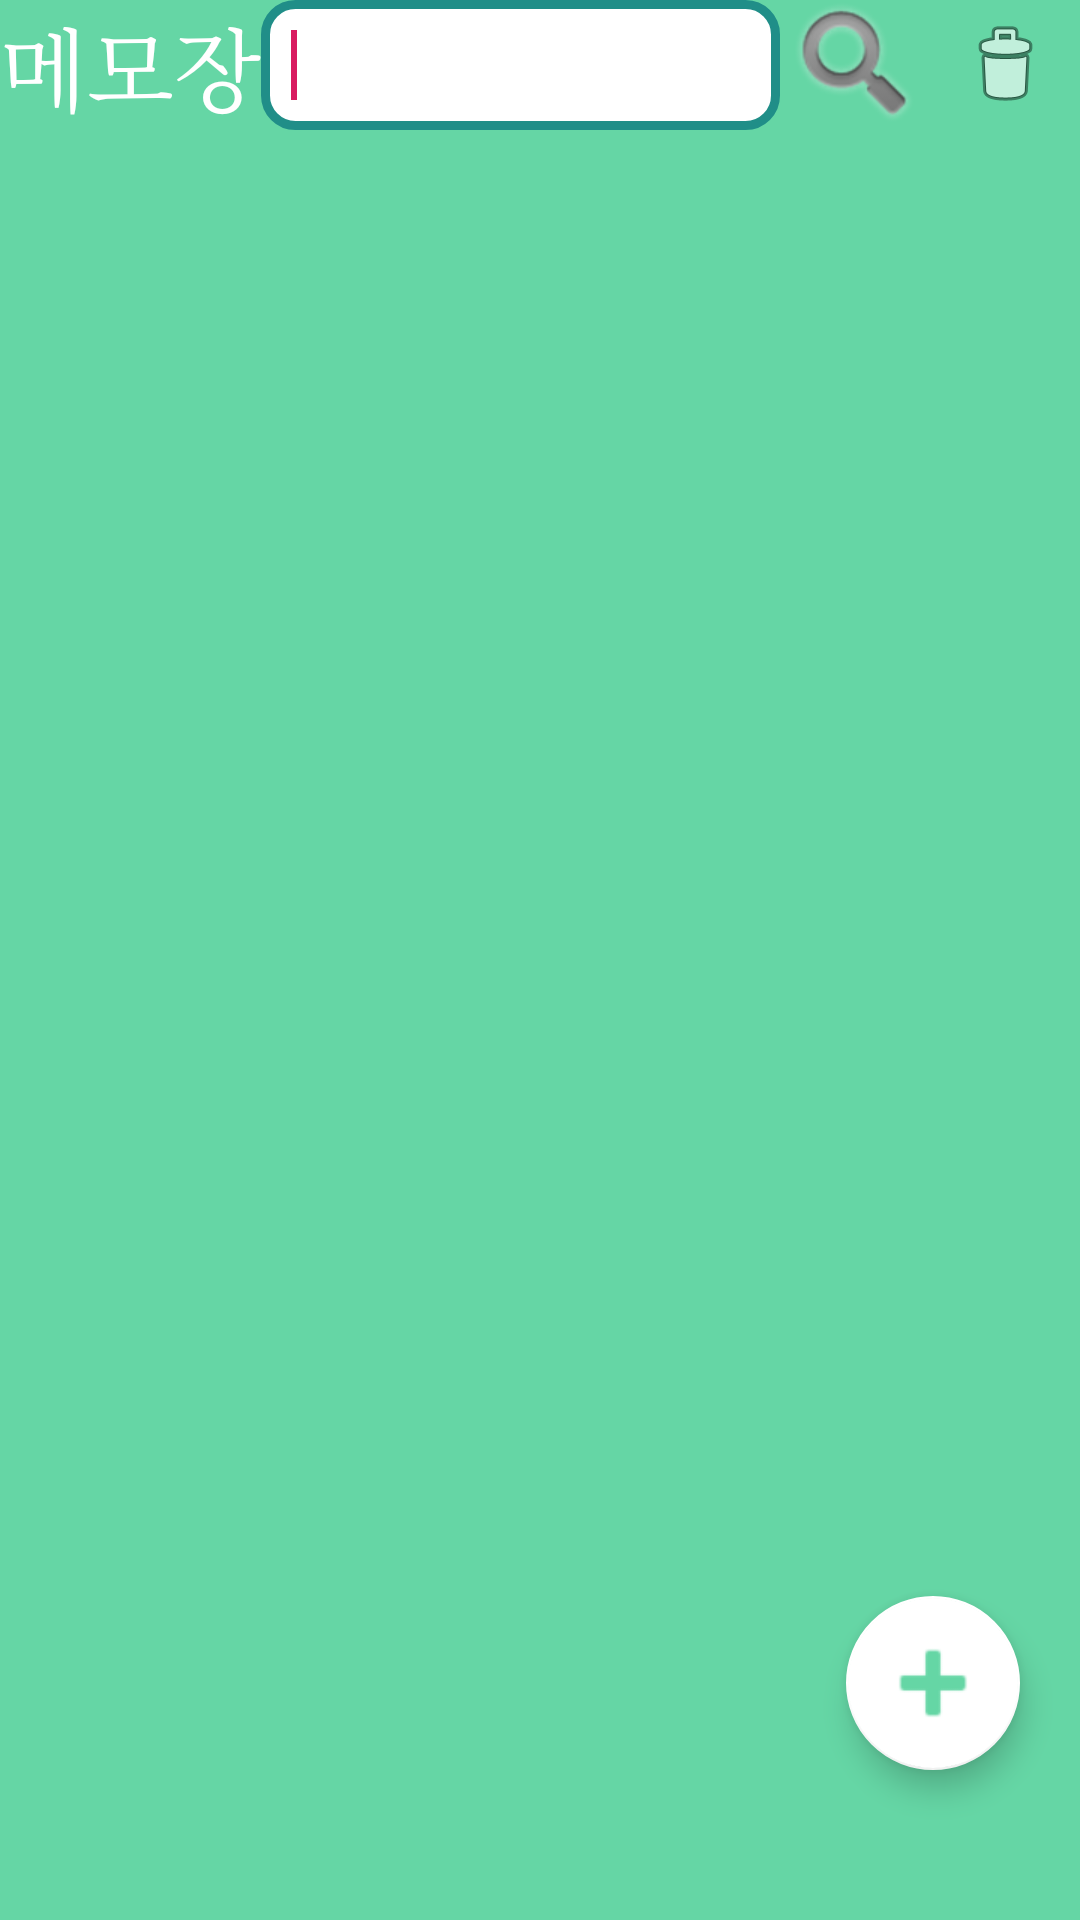

Where icons sit on this 1080 x 1920 app screen, as (x1, y1, x2, y2):
add: (846, 1596, 1020, 1770)
delete: (978, 26, 1033, 101)
search category: (801, 10, 907, 116)
